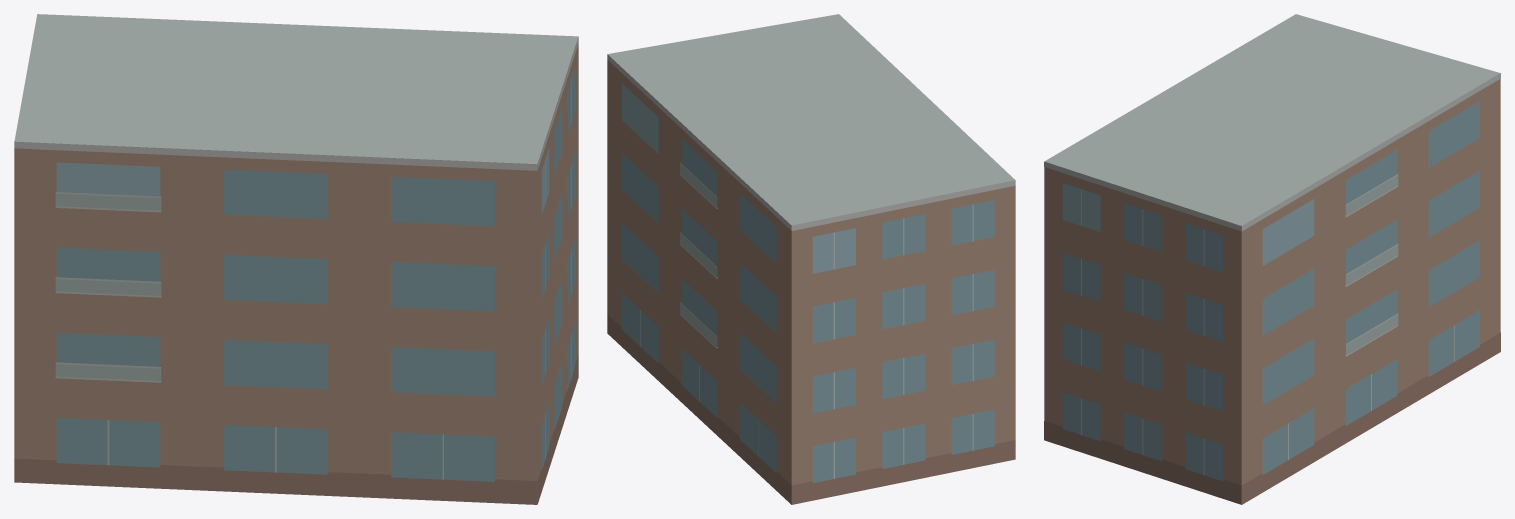
Rendered from survey-upis-32739317.glb.
3 renders of one model, left to right at view 1: azimuth 30°, elevation 25°; view 2: azimuth 150°, elevation 25°; view 3: azimuth 270°, elevation 25°, orthographic. The views are drawn at different scales.
Parts seen in each view (by area): view 1: survey-upis-32739317.tmp; view 2: survey-upis-32739317.tmp; view 3: survey-upis-32739317.tmp.
Boxes of the visible parts, bbox=[...] form: survey-upis-32739317.tmp: bbox=[14, 14, 578, 504]; survey-upis-32739317.tmp: bbox=[607, 14, 1015, 504]; survey-upis-32739317.tmp: bbox=[1044, 14, 1500, 504].
Size of the model in its own units: 20.4 by 12.5 by 18.56.
